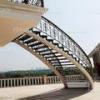stairs: (11, 27, 94, 92)
